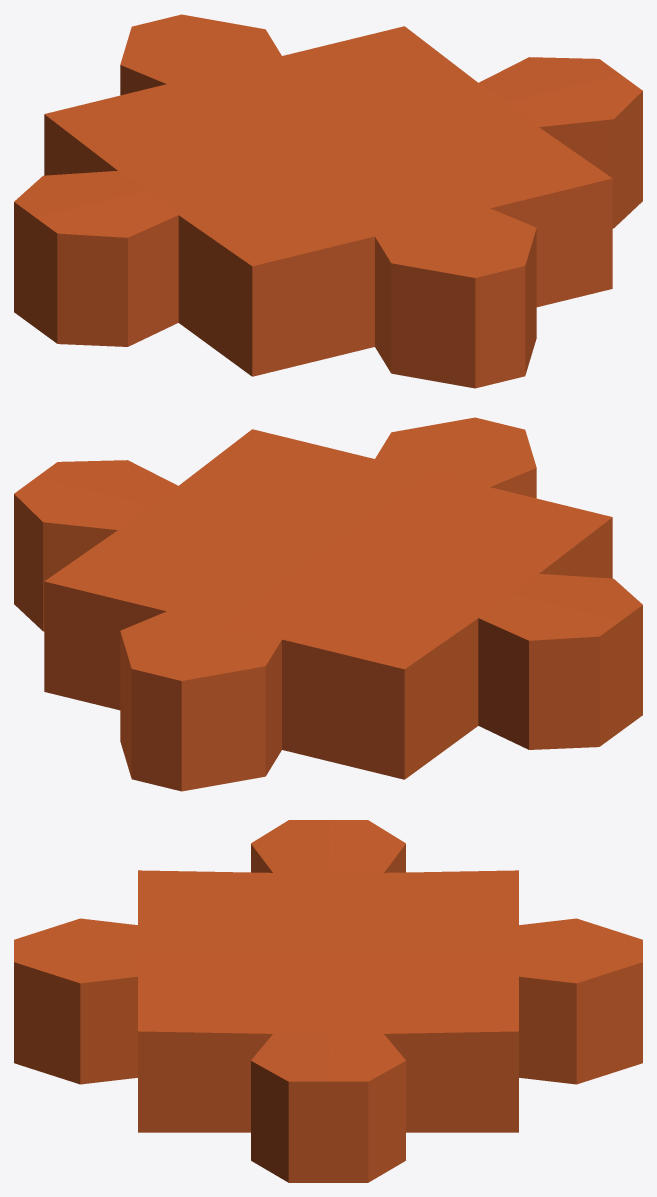
Rendered from ficha2.fbx.
The picture shows the model from 3 angles, top to bottom: view 1: azimuth 30°, elevation 25°; view 2: azimuth 150°, elevation 25°; view 3: azimuth 270°, elevation 25°; orthographic projection. The views are drawn at different scales.
Parts seen in each view (by area): view 1: Cube; view 2: Cube; view 3: Cube.
Boxes of the visible parts, x1=… form: Cube: x1=14, y1=14, x2=642, y2=388; Cube: x1=14, y1=417, x2=642, y2=791; Cube: x1=14, y1=820, x2=642, y2=1182.
Bounding box in the file's own units: 325 × 58.55 × 330.
